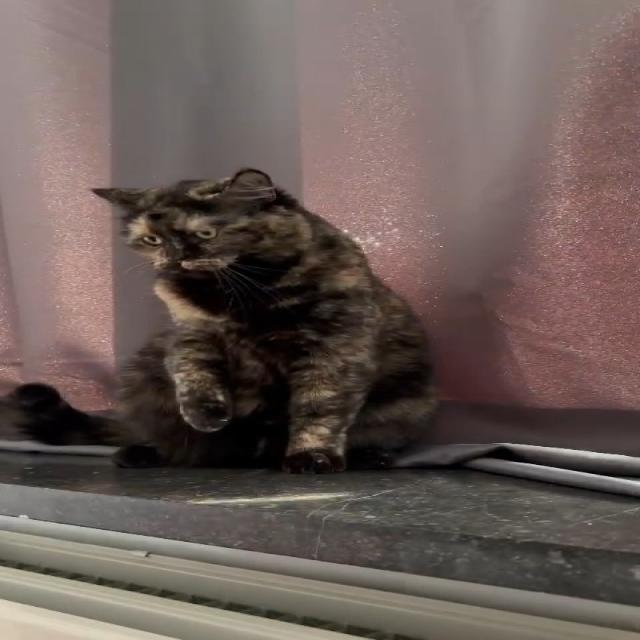authorized: (88, 166, 439, 475)
